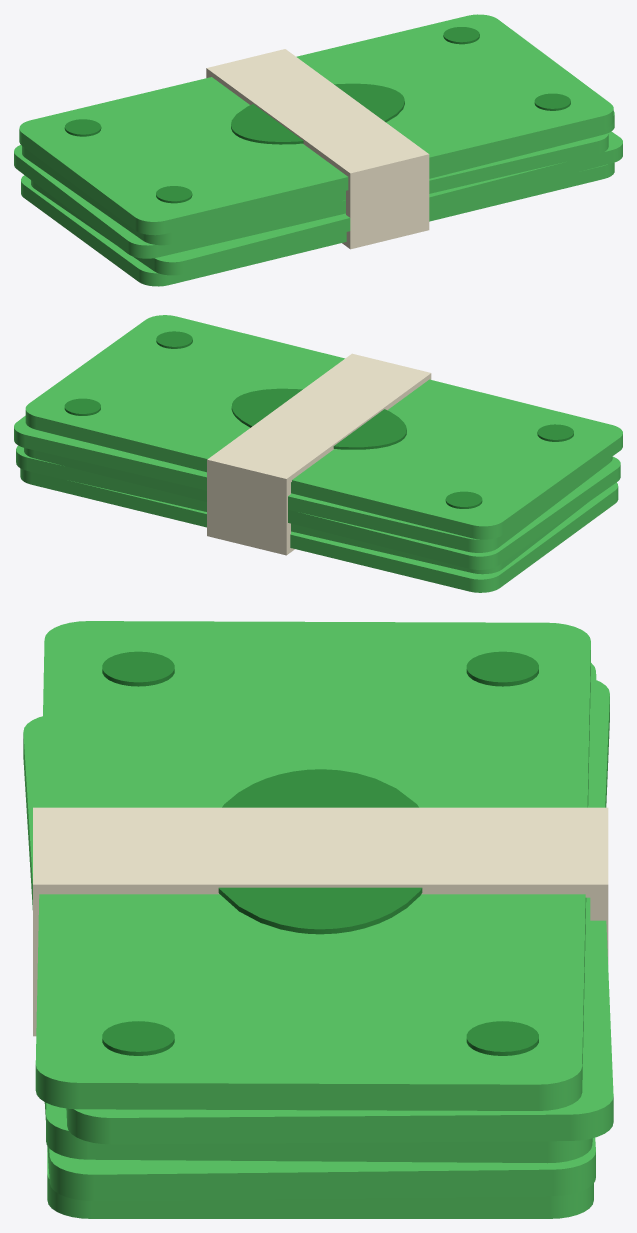
File: CashStack.glb
3 views of the same model, one above another, from view 1: azimuth 30°, elevation 25°; view 2: azimuth 150°, elevation 25°; view 3: azimuth 270°, elevation 25° (orthographic). The views are drawn at different scales.
Visible parts, largest first — view 1: billGreen (×5), paperBand, billDark (×5); view 2: billGreen (×5), paperBand, billDark (×5); view 3: billGreen (×5), paperBand, billDark (×5).
Boxes of the visible parts, x1,y1,x2,y2 form: billGreen (×5): [14, 14, 622, 286]; paperBand: [206, 49, 429, 249]; billDark (×5): [64, 27, 570, 203]; billGreen (×5): [14, 315, 622, 592]; paperBand: [207, 353, 431, 555]; billDark (×5): [64, 331, 573, 508]; billGreen (×5): [23, 621, 613, 1218]; paperBand: [33, 807, 608, 1036]; billDark (×5): [102, 651, 538, 1055].
Bounding box in the file's own units: 0.3097 × 0.046 × 0.162.
